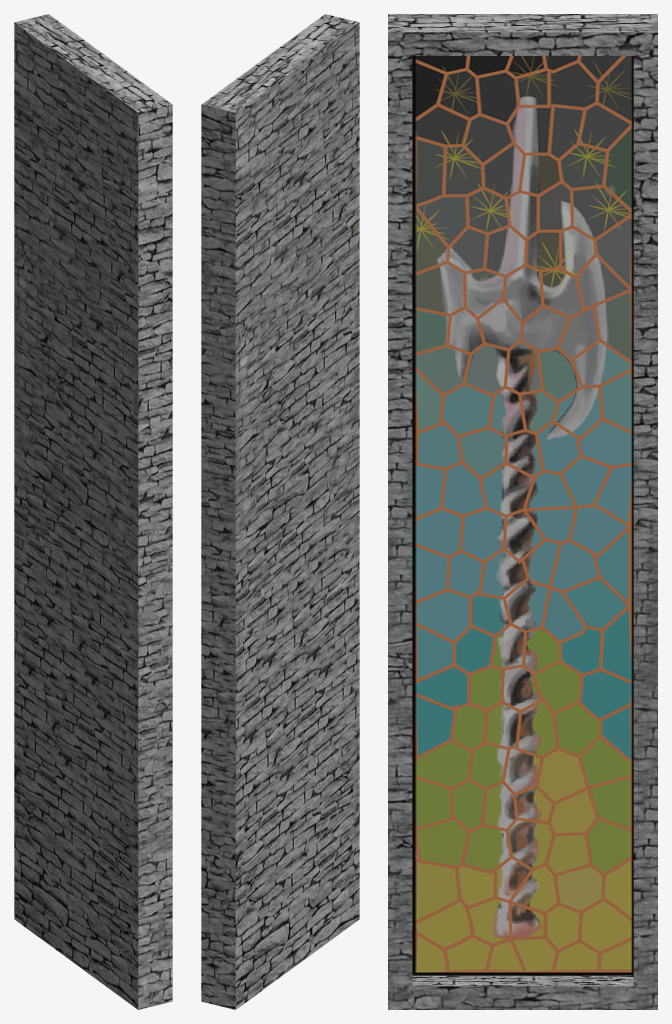
File: SM_frame_halberd.fbx
3 views of the same model, side by side, from view 1: azimuth 30°, elevation 25°; view 2: azimuth 150°, elevation 25°; view 3: azimuth 270°, elevation 25° (orthographic). The views are drawn at different scales.
Parts seen in each view (by area): view 1: SM_frame_halberd; view 2: SM_frame_halberd; view 3: SM_frame_halberd.
Part boxes in pixels (x1,y1,x2,y2): SM_frame_halberd: (14, 14, 172, 1009); SM_frame_halberd: (201, 14, 359, 1009); SM_frame_halberd: (388, 14, 657, 1009).
Size of the model in its own units: 20 by 500 by 125.
